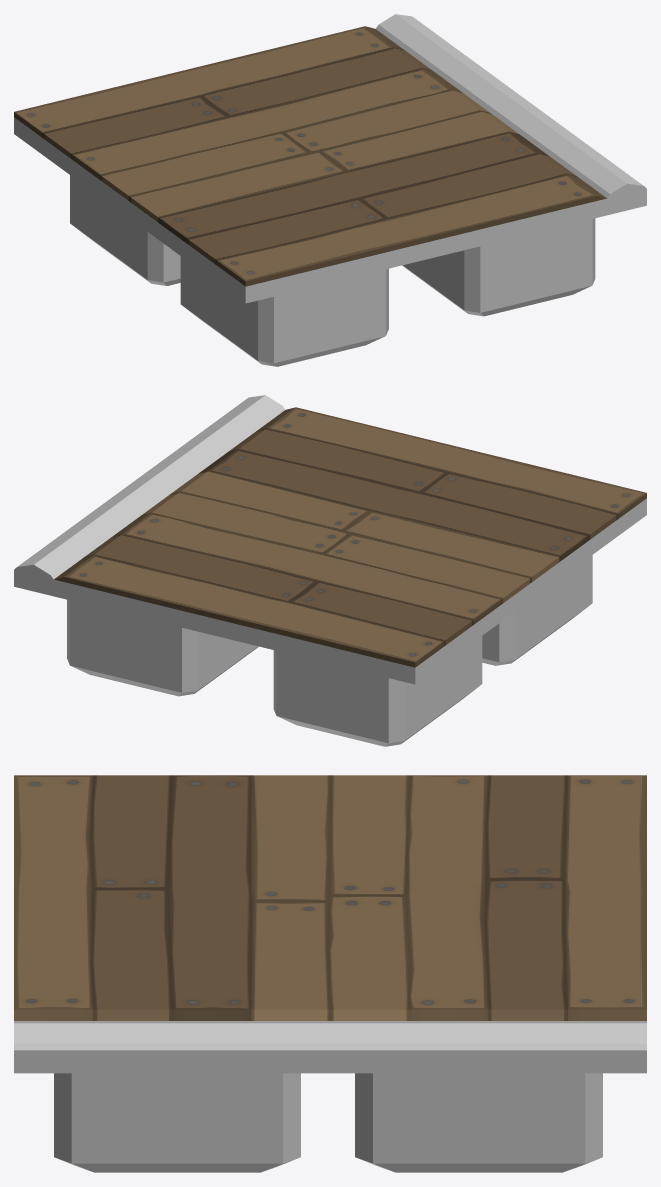
Rendered from SM_Bld_Dock_Platform_02_Alt.fbx.
3 views of the same model, one above another, from view 1: azimuth 30°, elevation 25°; view 2: azimuth 150°, elevation 25°; view 3: azimuth 270°, elevation 25° (orthographic). The views are drawn at different scales.
Visible parts, largest first — view 1: SM_Bld_Dock_Platform_02_Alt; view 2: SM_Bld_Dock_Platform_02_Alt; view 3: SM_Bld_Dock_Platform_02_Alt.
Boxes of the visible parts, box(x1,y1,x2,y2) form: SM_Bld_Dock_Platform_02_Alt: box(14, 14, 646, 366); SM_Bld_Dock_Platform_02_Alt: box(14, 395, 646, 746); SM_Bld_Dock_Platform_02_Alt: box(14, 775, 646, 1172).
Bounding box in the file's own units: 250 × 71.48 × 250.
